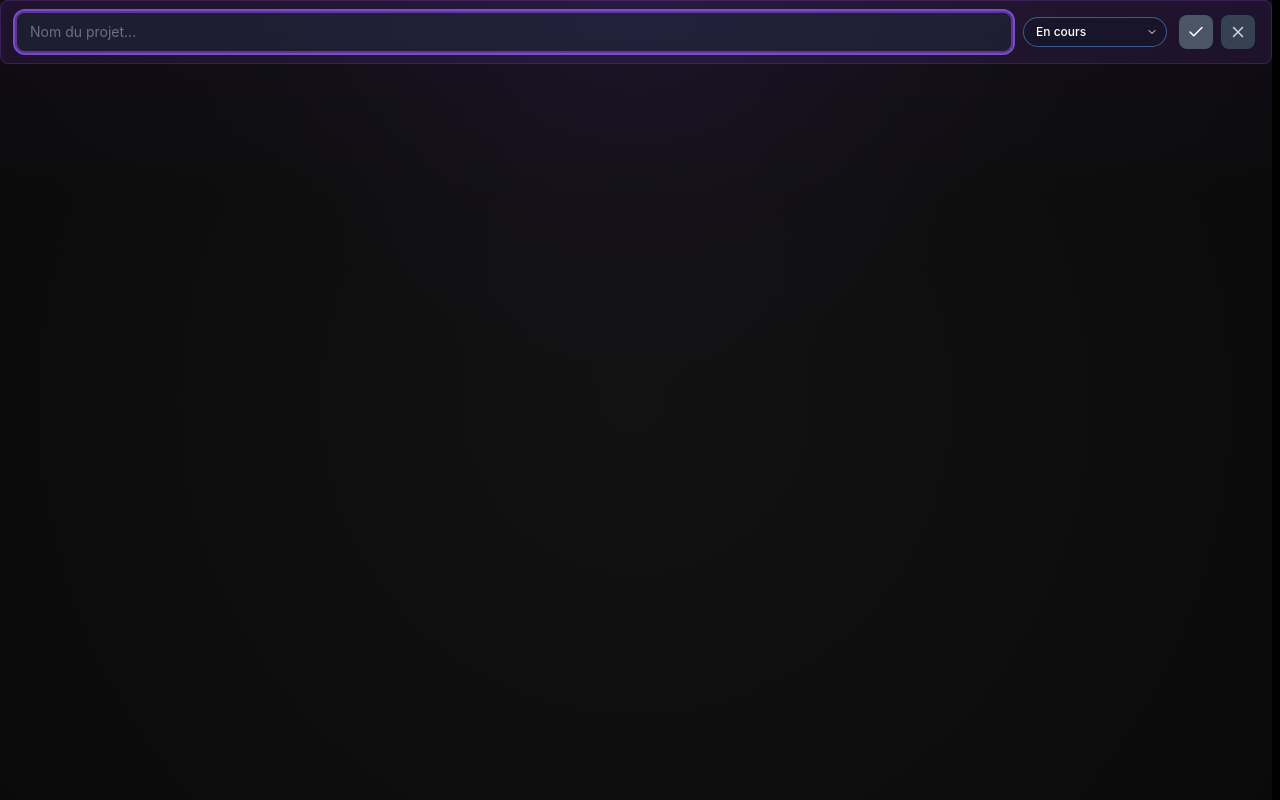
Test: AddProjectRow › should change status
This screenshot has width=1280, height=800.
Step 1. Click the button "En cours" → (1095, 32), box top-left (1023, 17), bottom-right (1167, 47)
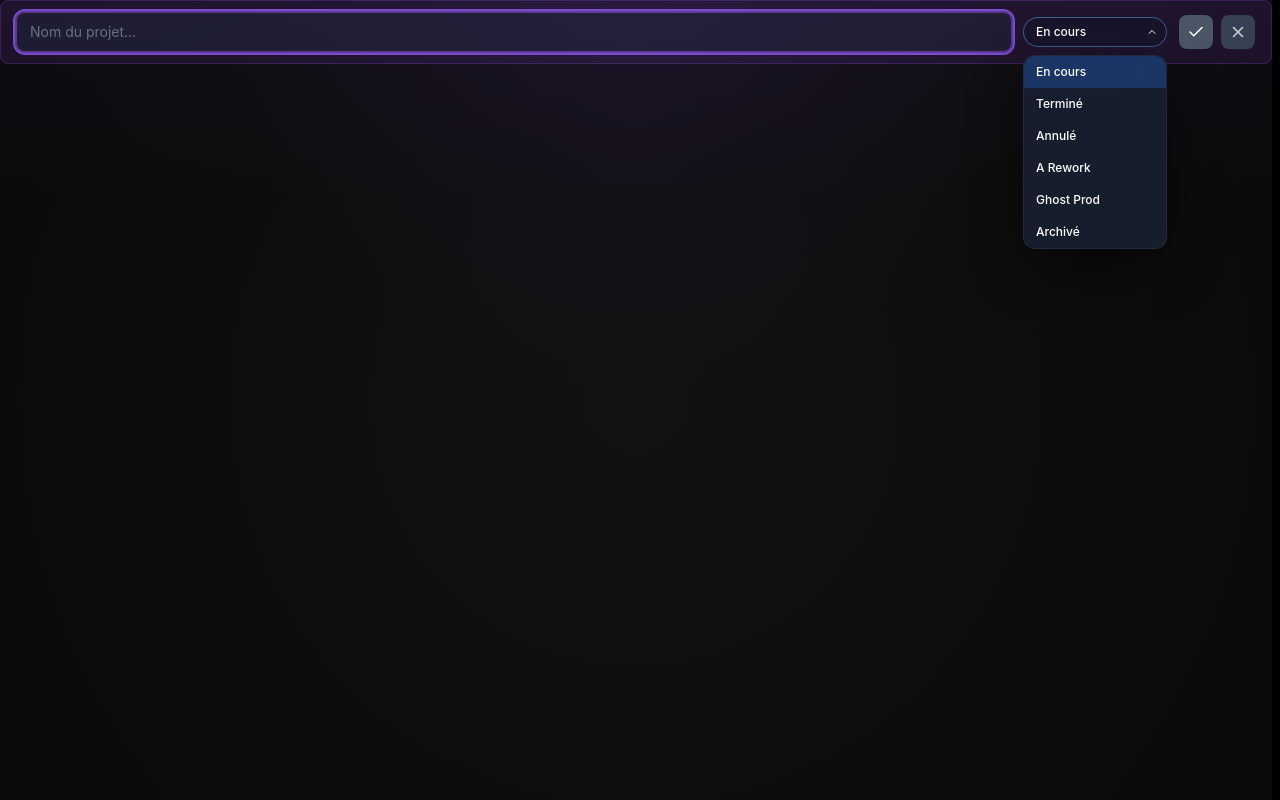
Expected: the button "Terminé" is shown
Step 2. Click the button "Terminé" → (1095, 104), box top-left (1024, 88), bottom-right (1166, 120)
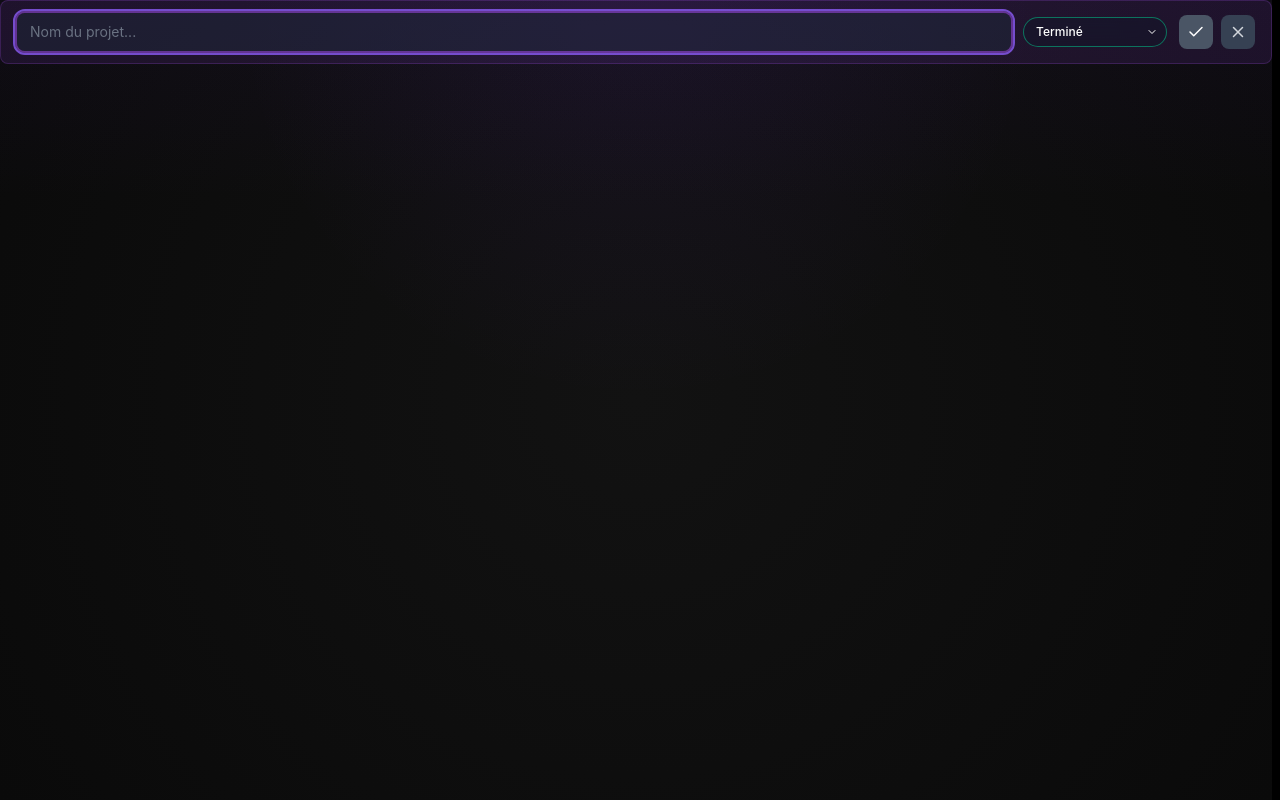
Expected: the text "Terminé" is shown, top-left (1036, 24), bottom-right (1083, 40)
